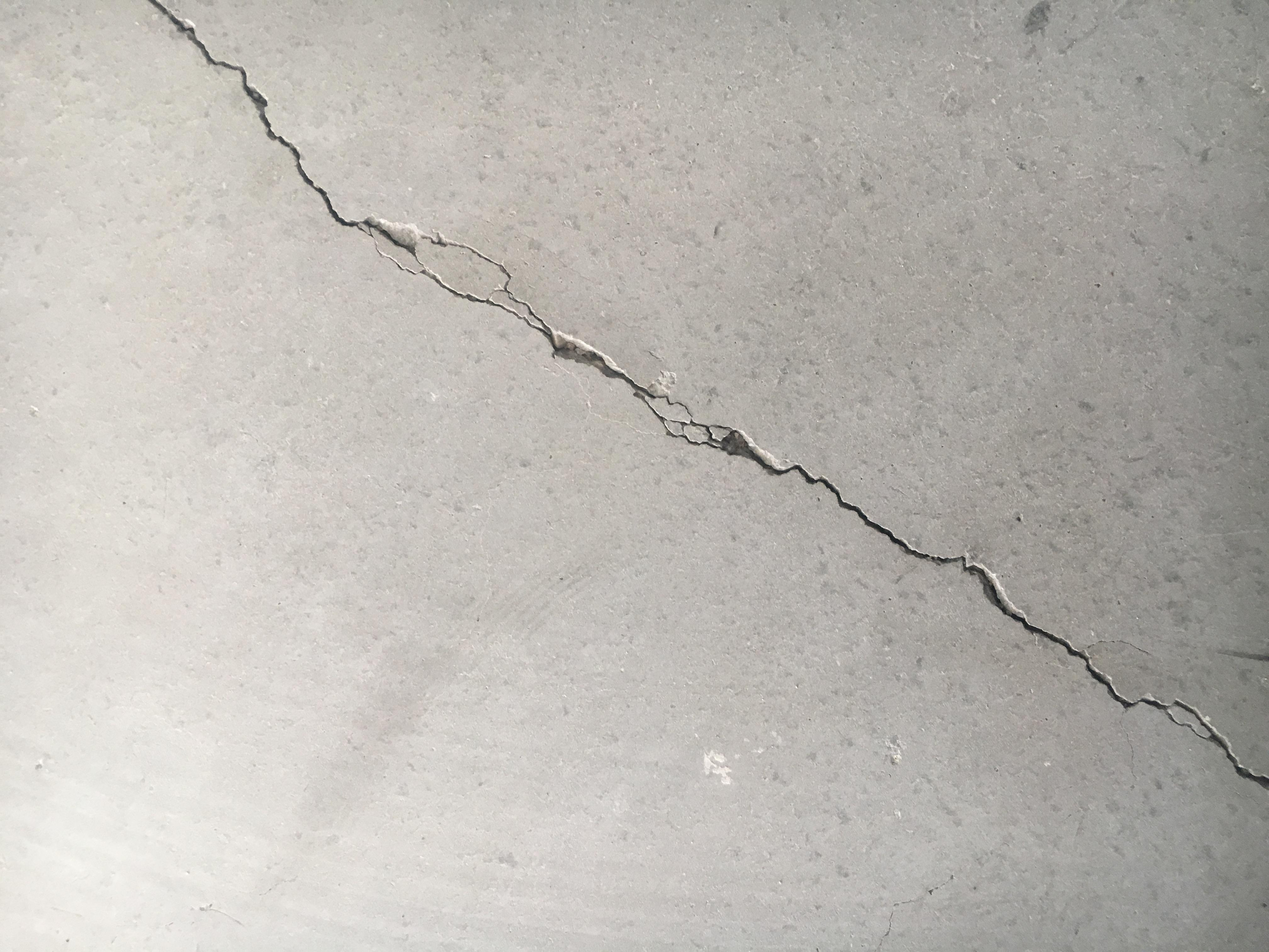Diagonal Crack: (145, 2, 1265, 797)
